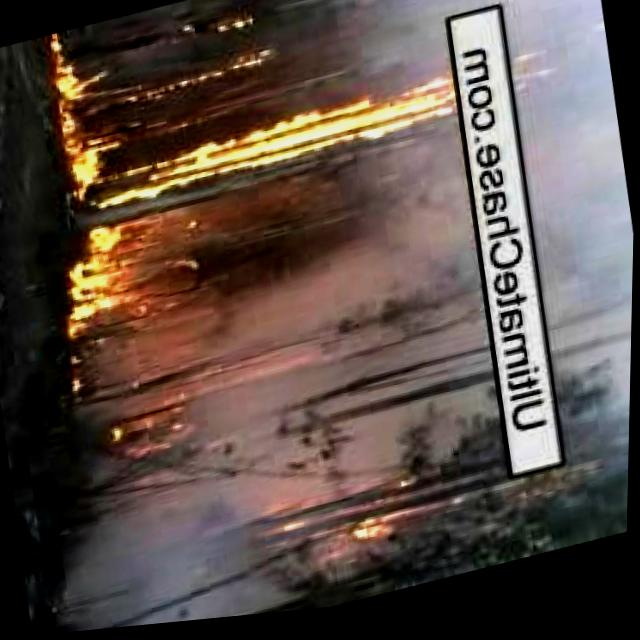helmet: (62, 70, 461, 228), (42, 0, 264, 123), (340, 445, 503, 570), (50, 211, 183, 347), (83, 376, 211, 484)
no_helmet: (156, 119, 515, 520), (484, 0, 640, 441), (32, 439, 342, 637)
